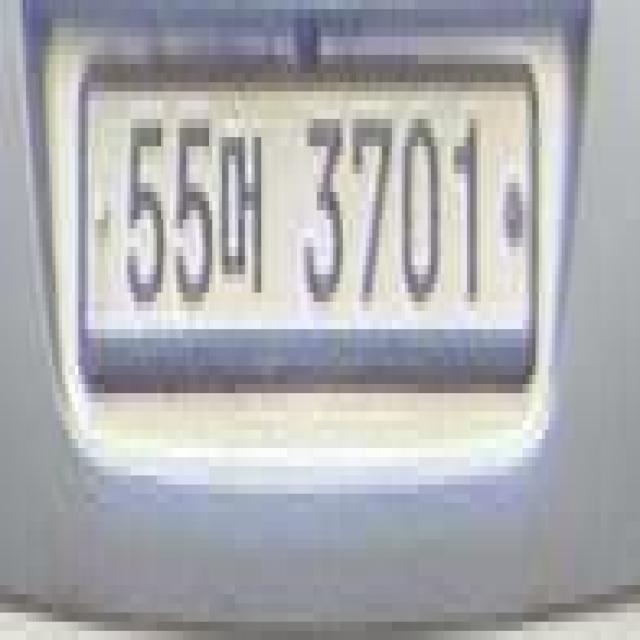0: (396, 101, 444, 306)
1: (449, 104, 488, 311)
3: (302, 100, 346, 298)
5: (170, 101, 216, 310), (121, 106, 167, 304)
7: (348, 98, 394, 304)
license_plate: (74, 38, 544, 404)
meo: (220, 98, 266, 316)
